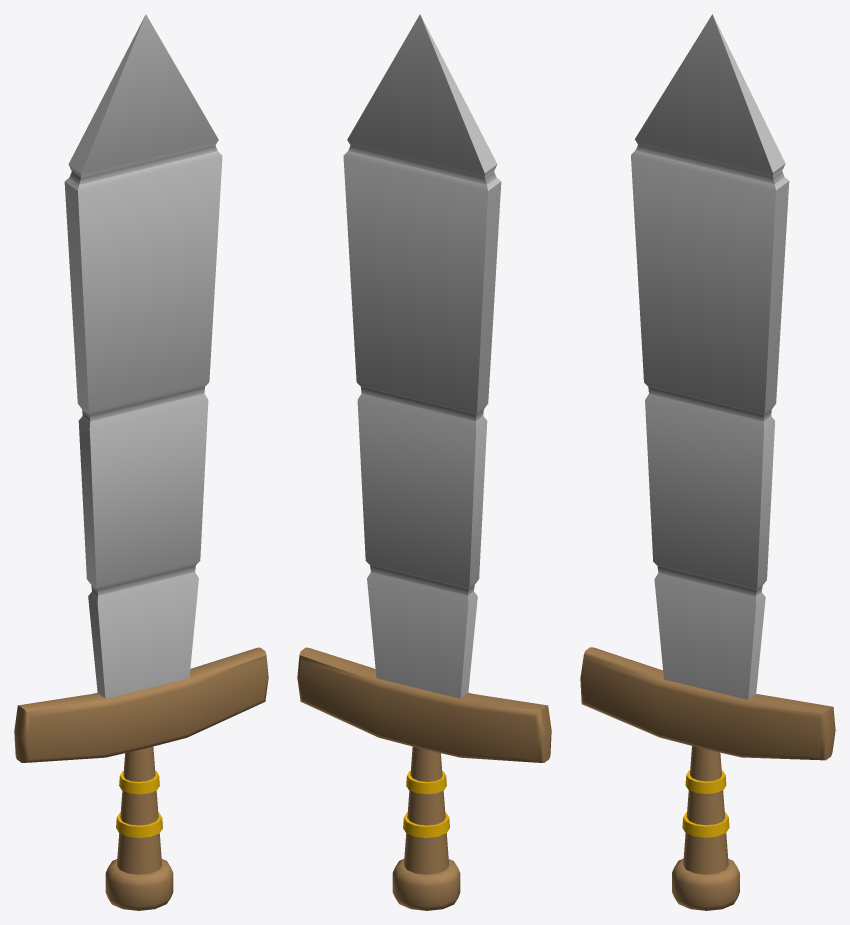
The model's file is Sowrd_10.fbx.
The picture shows the model from 3 angles, left to right: view 1: azimuth 30°, elevation 25°; view 2: azimuth 150°, elevation 25°; view 3: azimuth 330°, elevation 25°; orthographic projection.
Visible parts, largest first — view 1: Sowrd_10; view 2: Sowrd_10; view 3: Sowrd_10.
Part boxes in pixels (bbox=[...]): Sowrd_10: bbox=[14, 14, 268, 910]; Sowrd_10: bbox=[297, 14, 551, 910]; Sowrd_10: bbox=[580, 14, 835, 910].
Size of the model in its own units: 0.1447 by 0.4947 by 0.0341.
